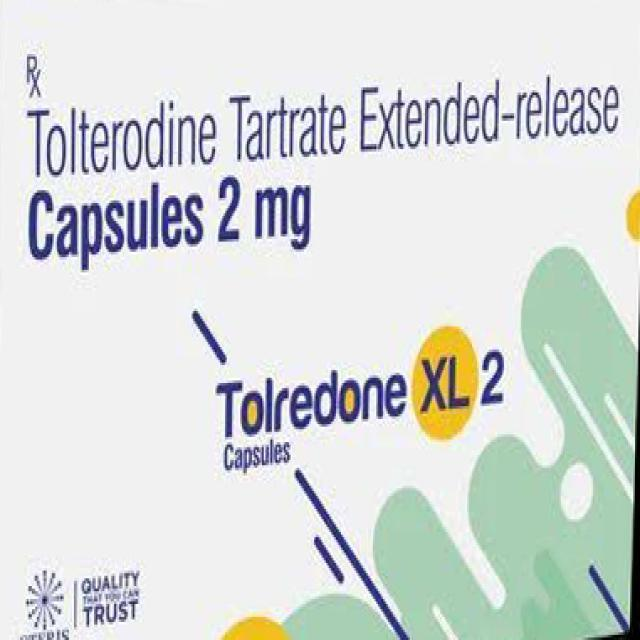drug-name: (212, 344, 516, 439)
